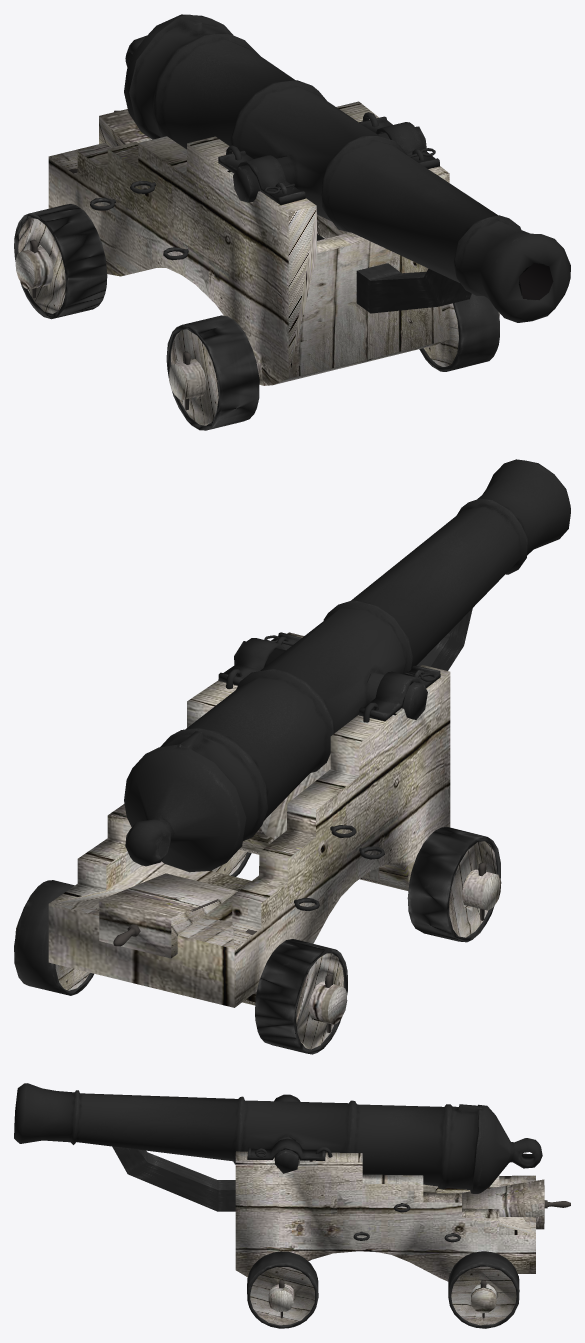
Rendered from Cannon.glb.
3 renders of one model, top to bottom at view 1: azimuth 30°, elevation 25°; view 2: azimuth 150°, elevation 25°; view 3: azimuth 270°, elevation 25°, orthographic. The views are drawn at different scales.
Visible parts, largest first — view 1: Pirate Canon, Pirate Canon.001, Pirate Canon.006, Pirate Canon.005, Pirate Canon.003, Pirate Canon.002; view 2: Pirate Canon, Pirate Canon.001, Pirate Canon.002, Pirate Canon.006, Pirate Canon.005, Pirate Canon.004; view 3: Pirate Canon, Pirate Canon.001, Pirate Canon.003, Pirate Canon.004, Pirate Canon.002.
Boxes of the visible parts, bbox=[...] form: Pirate Canon: bbox=[15, 101, 500, 410]; Pirate Canon.001: bbox=[129, 14, 570, 322]; Pirate Canon.006: bbox=[166, 315, 259, 430]; Pirate Canon.005: bbox=[14, 204, 107, 319]; Pirate Canon.003: bbox=[419, 294, 499, 371]; Pirate Canon.002: bbox=[124, 14, 209, 139]; Pirate Canon: bbox=[15, 608, 501, 1032]; Pirate Canon.001: bbox=[160, 459, 570, 840]; Pirate Canon.002: bbox=[124, 744, 246, 872]; Pirate Canon.006: bbox=[407, 826, 500, 942]; Pirate Canon.005: bbox=[255, 939, 347, 1054]; Pirate Canon.004: bbox=[14, 880, 93, 995]; Pirate Canon: bbox=[112, 1094, 570, 1318]; Pirate Canon.001: bbox=[14, 1083, 480, 1193]; Pirate Canon.003: bbox=[247, 1251, 318, 1328]; Pirate Canon.004: bbox=[448, 1251, 519, 1328]; Pirate Canon.002: bbox=[471, 1105, 542, 1193].
Bounding box in the file's own units: 1.79 × 1.64 × 4.19.
3 materials, 3 textured.
